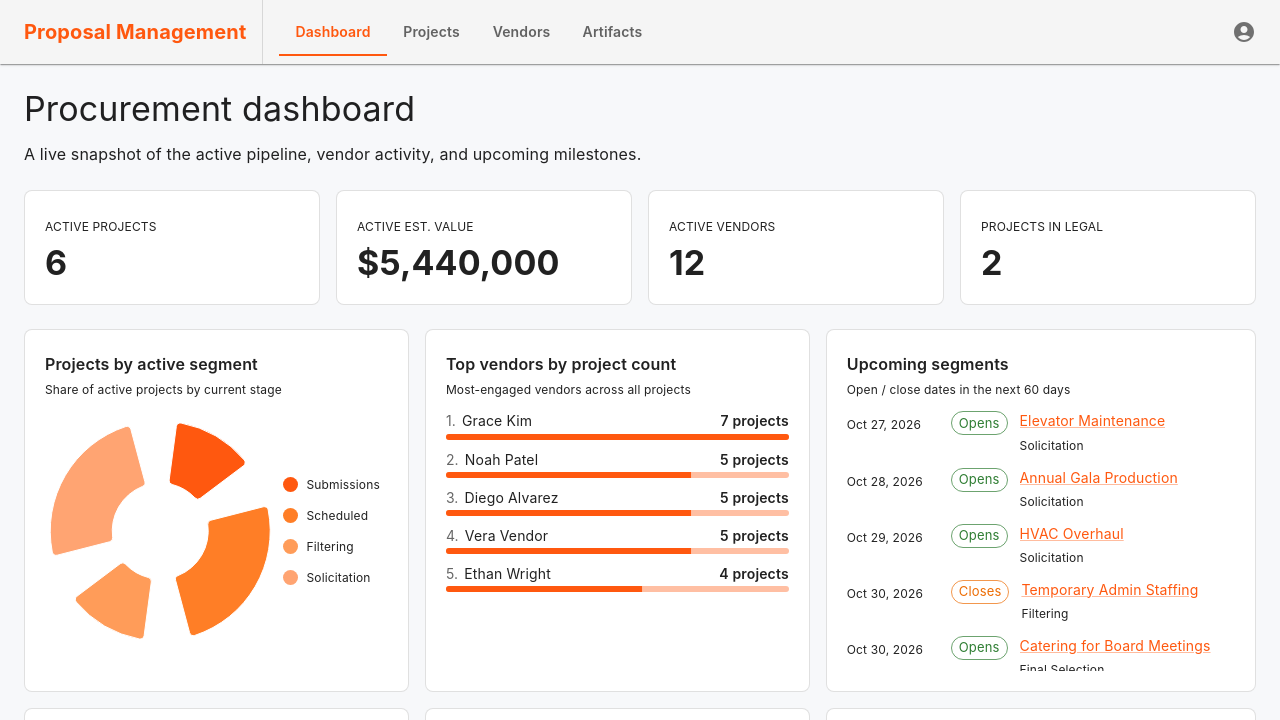
Test: App shell & roles (Phase 2) › switches role from the user menu, changing the nav
Expected: the element showing "Dashboard Projects Vendors Artifacts" is shown, 295,23 -> 642,40
Click the button named "user menu" at x=1244, y=32, box 1220,8 -> 1268,56
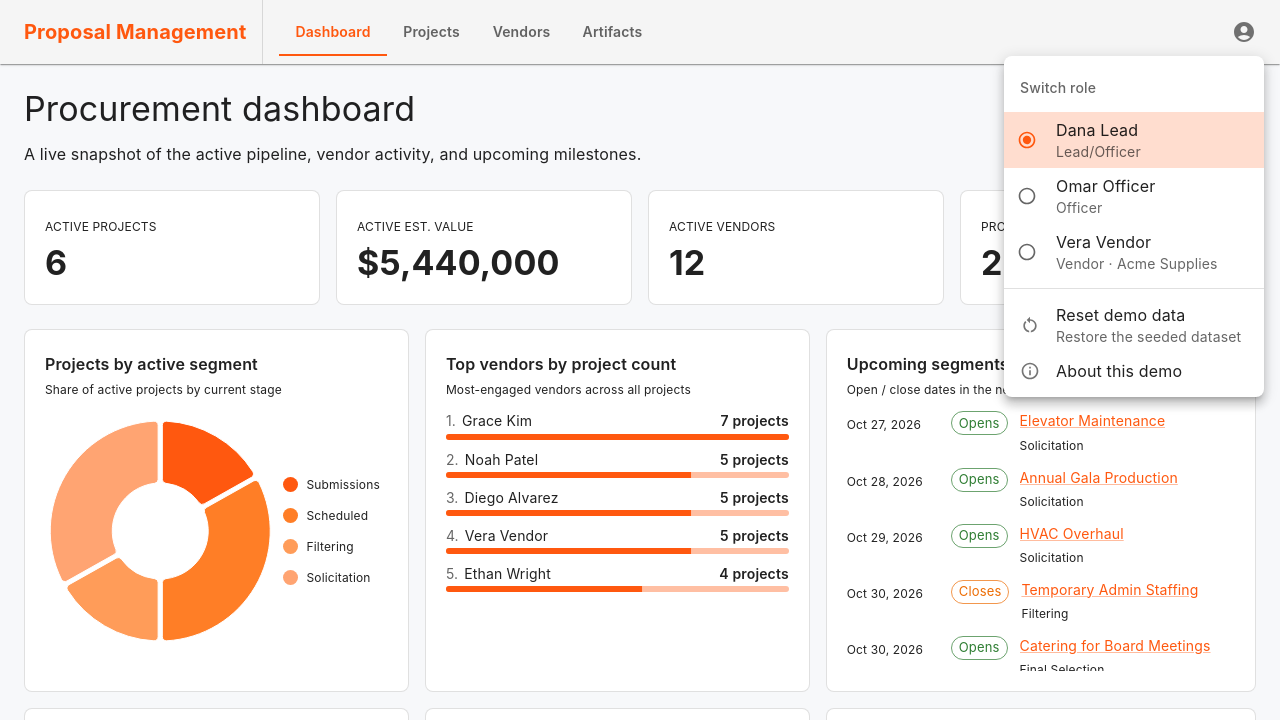
Click the text "Vera Vendor" at x=1104, y=242, box 1056,232 -> 1151,252
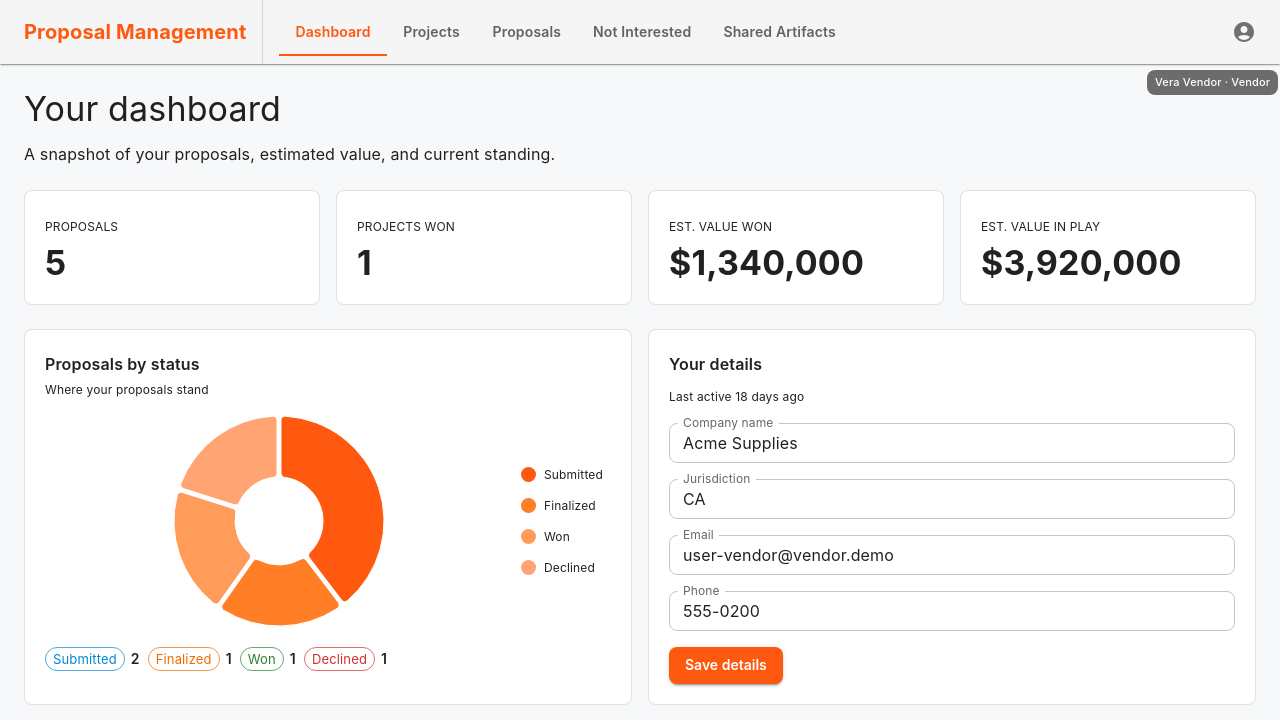
Expected: the tab "Proposals" is shown, 493,23 -> 561,40
